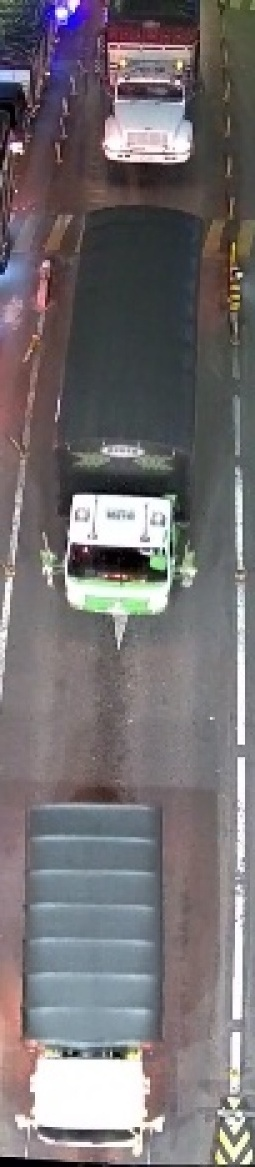truck: (41, 208, 209, 635), (11, 794, 178, 1155), (98, 6, 207, 168)
